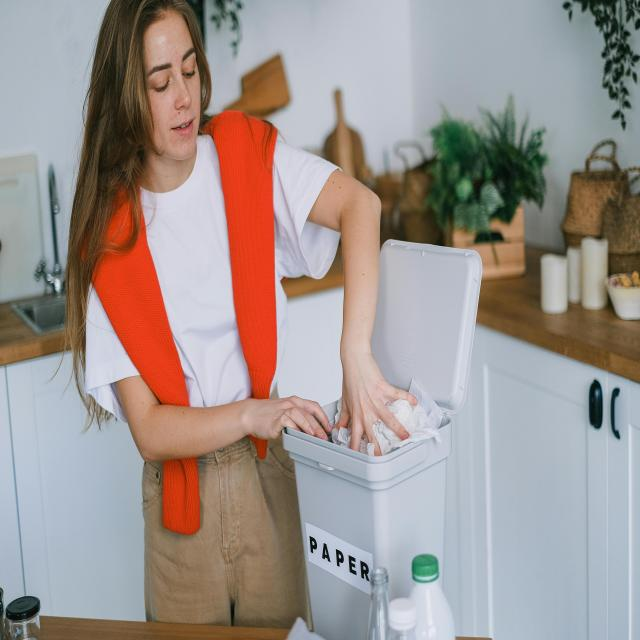paper: (395, 412, 427, 438)
